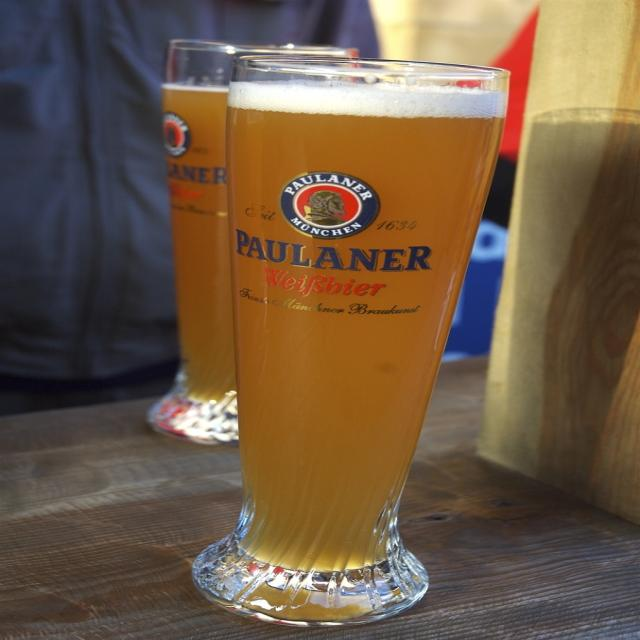paulaner: (278, 171, 380, 241)
